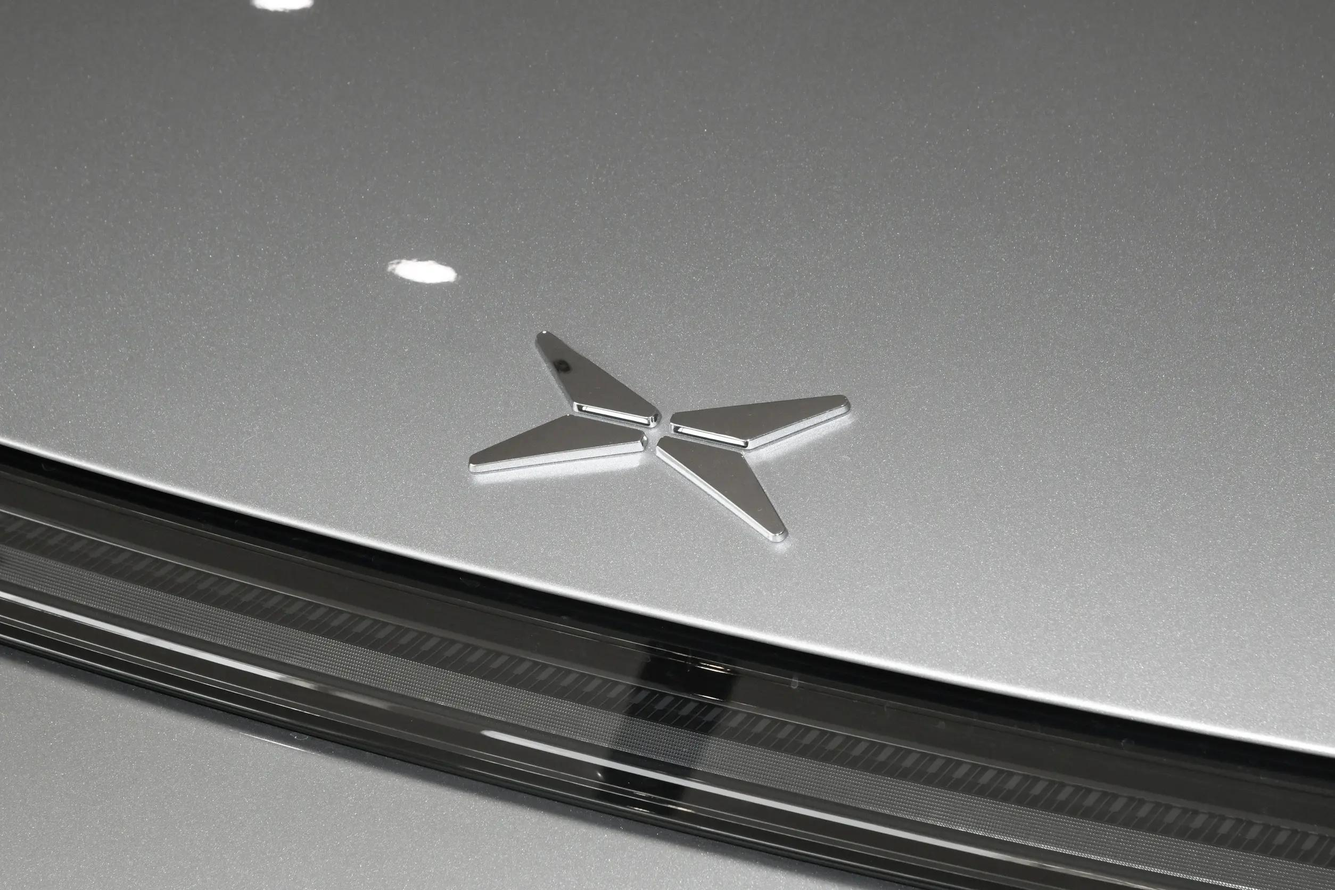XPeng Motors: (467, 329, 850, 542)
